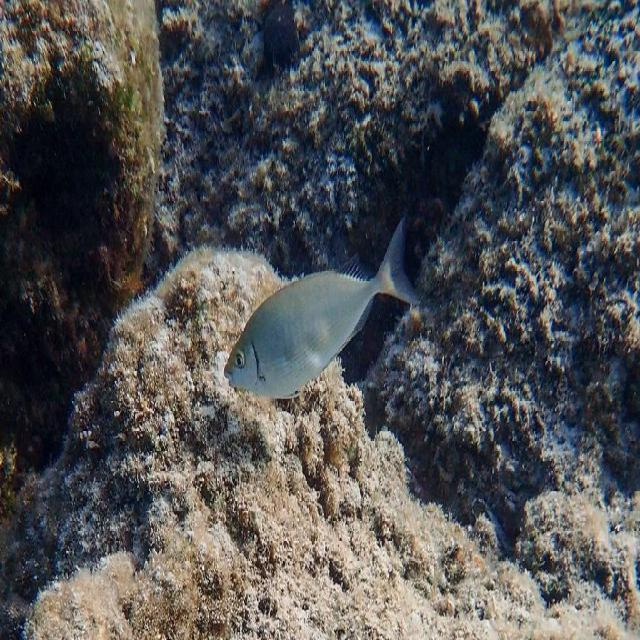Sokar Baligi: (219, 201, 430, 418)
